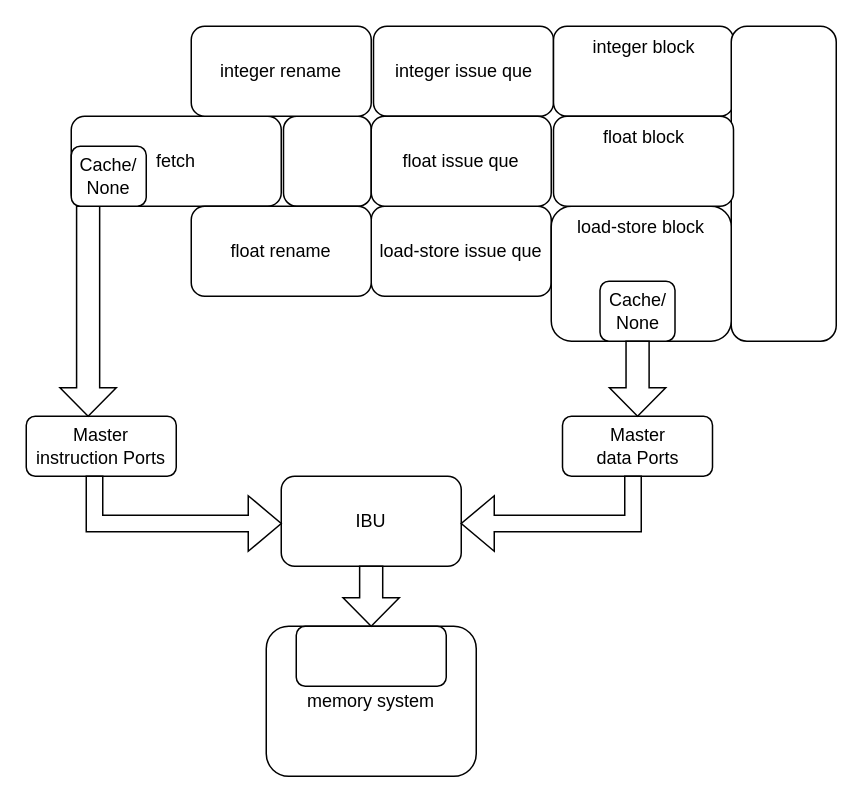
Some shapes in this 863 by 803 pixel diagram are drawn without their labels. The centre of each missing label's shape, as x and y in pixels:
"commit" belongs at (x=783, y=183).
"decode" belongs at (x=326, y=160).
"Slave Ports" belongs at (x=370, y=655).
